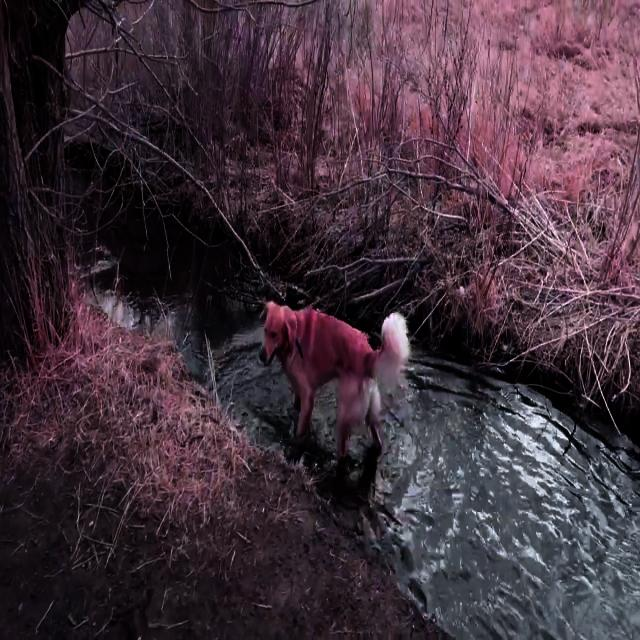Dog: (259, 300, 410, 457)
